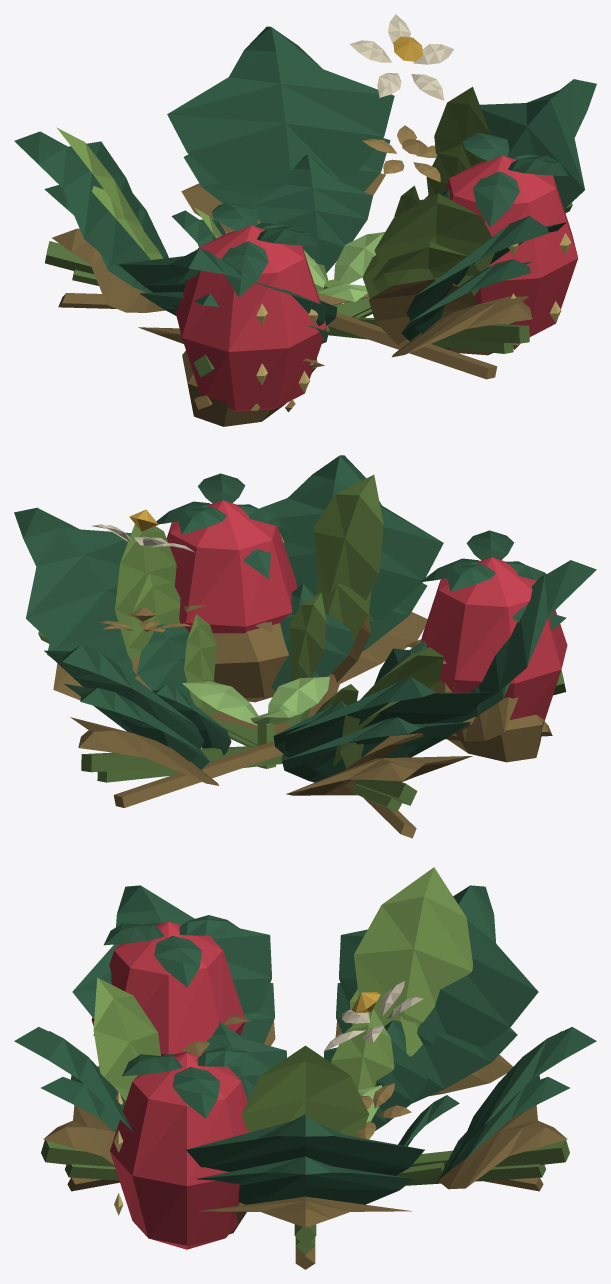
Rendered from spring_strawberry.glb.
3 views of the same model, one above another, from view 1: azimuth 30°, elevation 25°; view 2: azimuth 150°, elevation 25°; view 3: azimuth 270°, elevation 25° (orthographic). The views are drawn at different scales.
Parts seen in each view (by area): view 1: stage3, dead, stage2, stage1, stage0; view 2: stage3, dead, stage2, stage1, stage0; view 3: stage3, stage2, dead, stage1.
Part boxes in pixels (x1,y1,x2,y2): stage3: (14, 14, 596, 411); dead: (52, 125, 532, 426); stage2: (44, 138, 532, 353); stage1: (171, 155, 426, 331); stage0: (303, 232, 384, 306); stage3: (14, 455, 596, 805); dead: (53, 605, 552, 838); stage2: (47, 573, 566, 812); stage1: (137, 583, 426, 760); stage0: (182, 676, 329, 768); stage3: (14, 867, 596, 1249); stage2: (41, 983, 569, 1254); dead: (43, 1015, 567, 1269); stage1: (204, 1009, 459, 1180).
Size of the model in its own units: 0.6485 by 0.31 by 0.6391.
